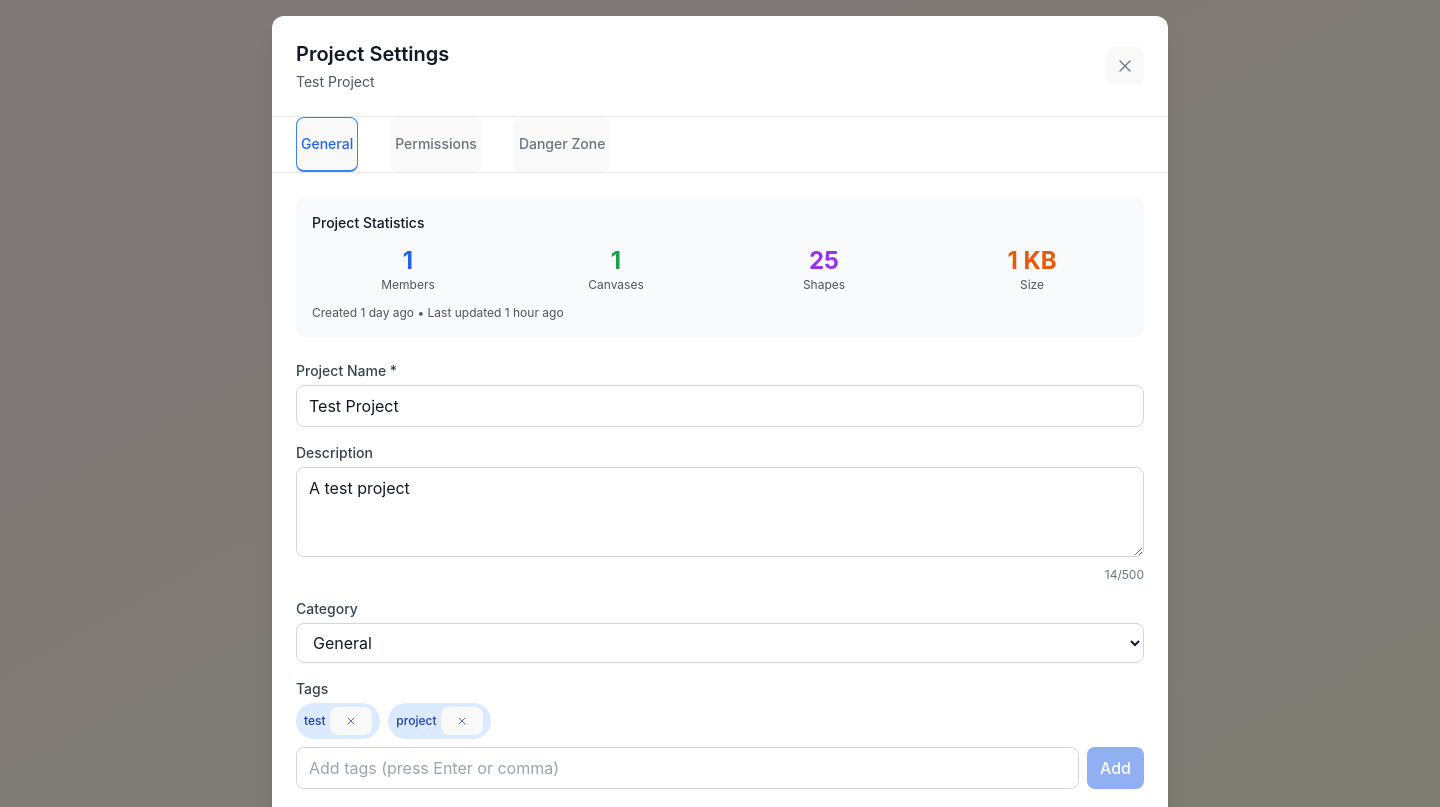
ProjectSettingsModal › Form Validation › should show error for short project name
Replace the text in the field labelled "Project Name *" with "A" at (720, 406), box [296,385,1144,427]
(page scrolled)
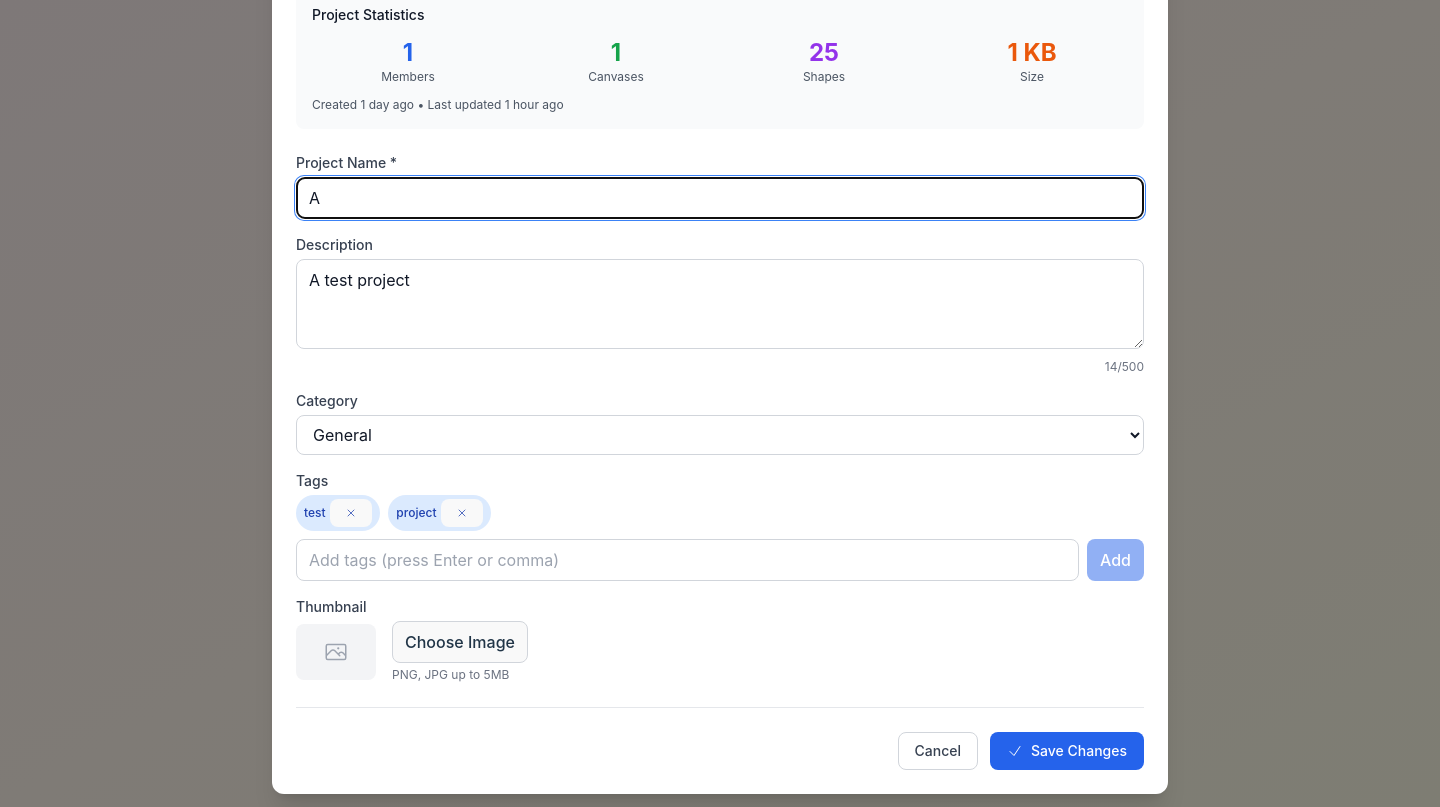
Click the button "Save Changes".
click(1067, 751)  # box [990,732,1144,770]
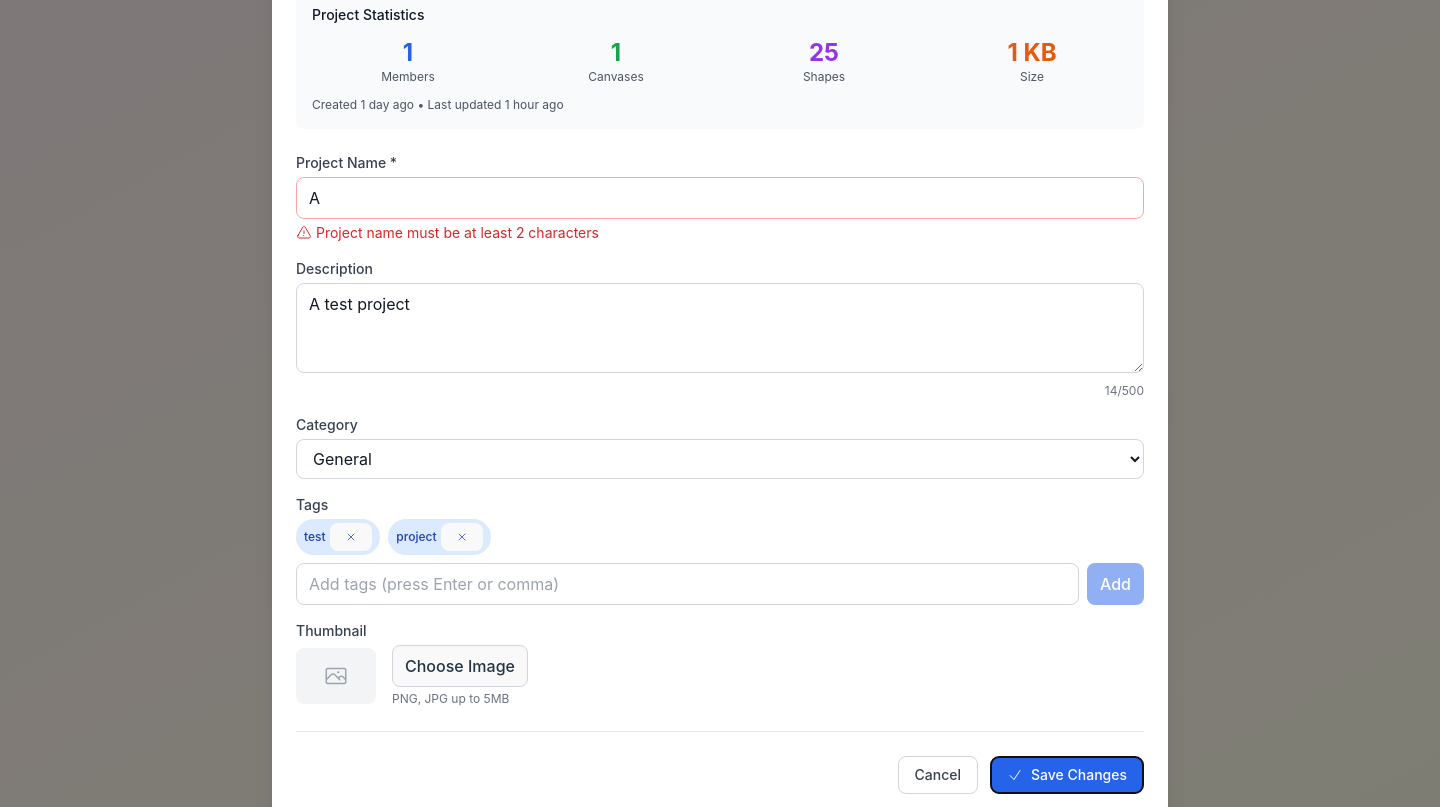
Result: the text "Project name must be at least 2 characters" is shown at [296,224,599,241]
